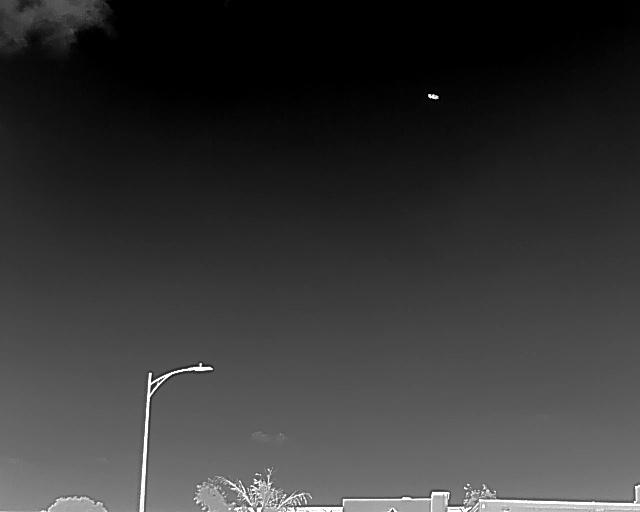fpv-drone: (426, 93, 438, 100)
